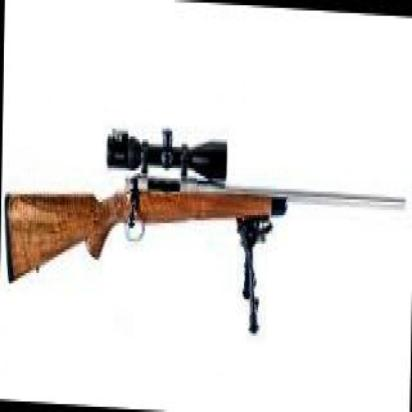Gun: (5, 132, 404, 339)
